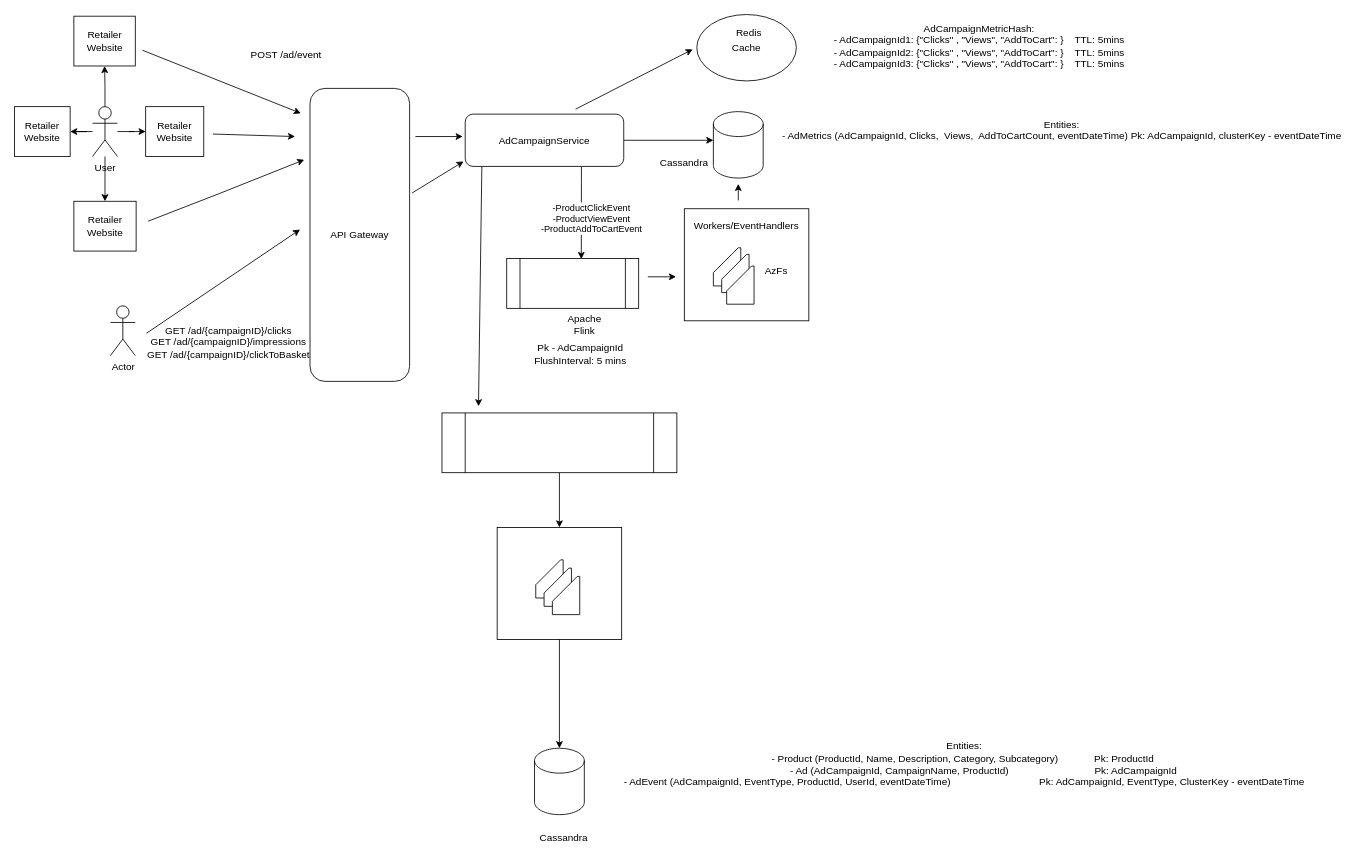
The diagram is 1360 pixels wide and 865 high, and some of its shapes have lost their labels. Each missing label, with the box of its shape:
Backup Datastore: (534, 747, 584, 815)
Datastore: (713, 111, 763, 178)
EventQueue Apache Kafka: (441, 412, 677, 473)
EventStreamProcessor: (506, 258, 639, 308)
